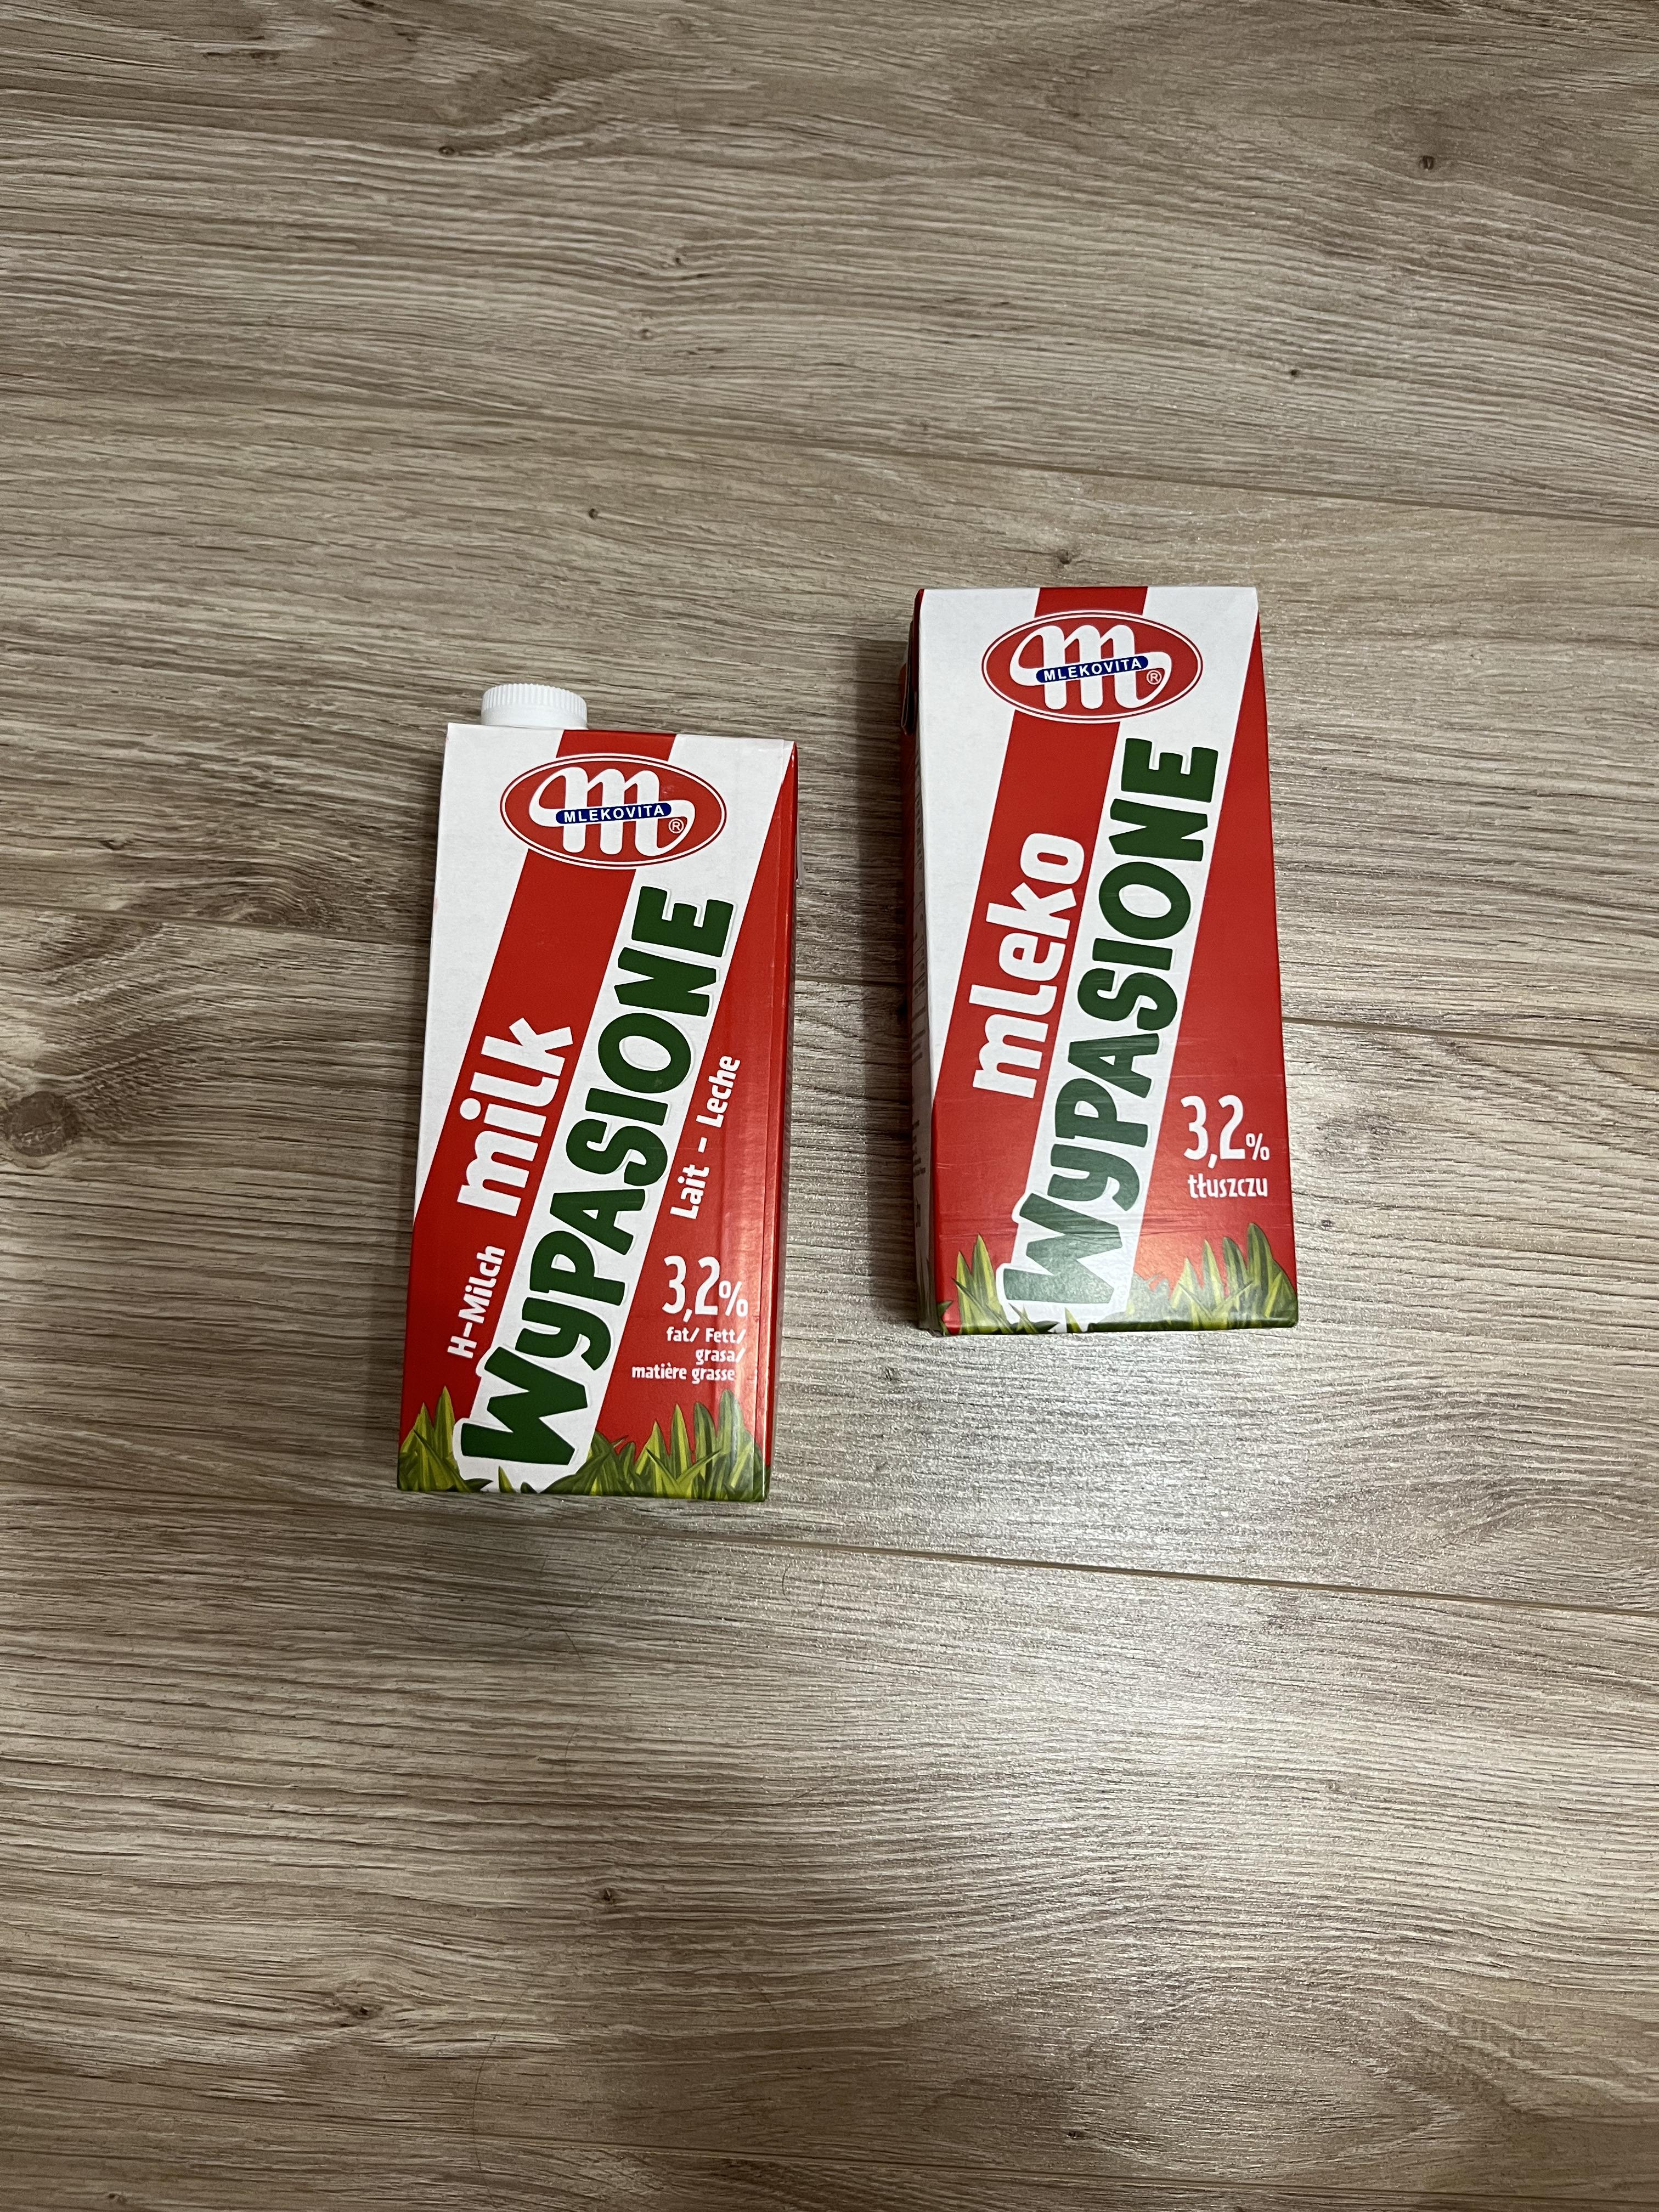Milk: (904, 563, 1305, 1359), (429, 712, 765, 1496)
